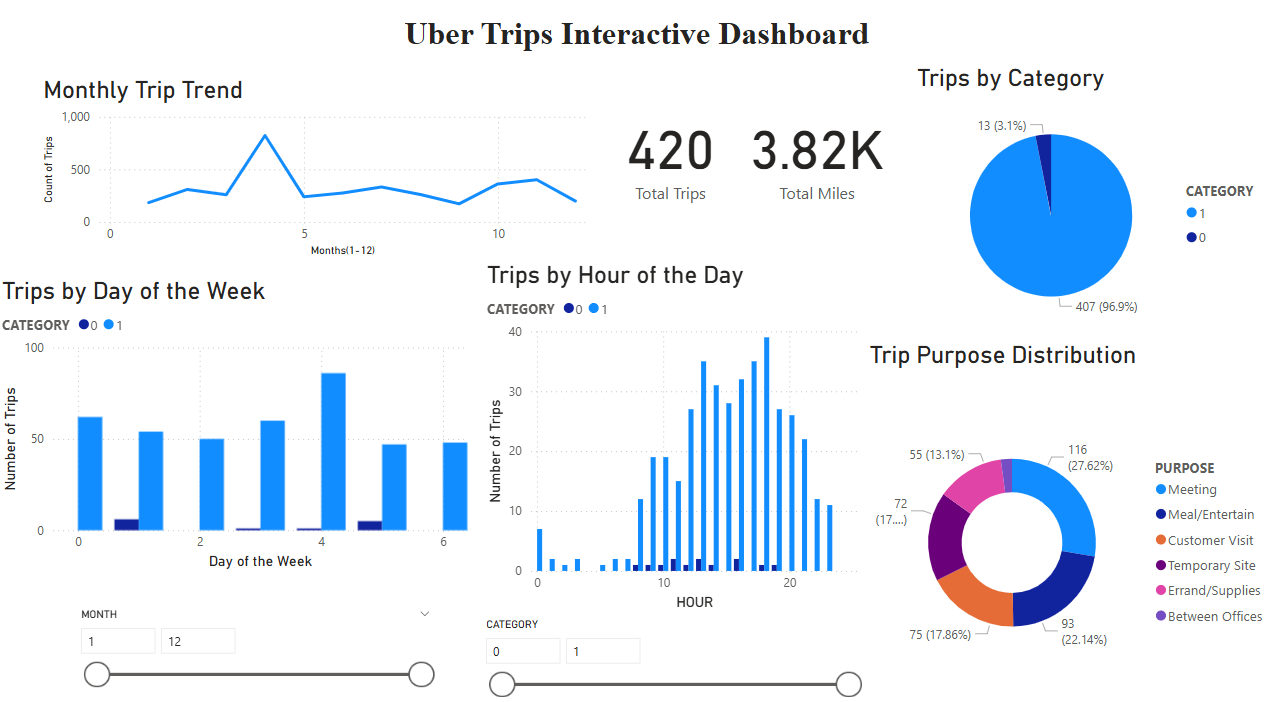

What the dashboard file says about the page in this screenshot:
{"tool":"powerbi","page":{"name":"Page 1","canvas":[1280,720],"ordinal":0},"visuals":[{"type":"textbox","box":[10,0,280,280],"z":0},{"type":"textbox","box":[42,12.6,1194.8,53.2],"z":1000},{"type":"textbox","box":[10,456.5,436,150],"z":2000},{"type":"pieChart","title":"Trips by Category","fields":{"Category":["uber_cleaned_for_powerbi.CATEGORY"],"Y":["CountNonNull(uber_cleaned_for_powerbi.MILES)"]},"box":[914.7,66,365.6,277.6],"z":3000},{"type":"card","fields":{"Values":["Sum(uber_cleaned_for_powerbi.MILES)"]},"box":[738.6,78.5,163.1,157],"z":4000},{"type":"lineChart","title":"Monthly Trip Trend","fields":{"Category":["uber_cleaned_for_powerbi.START_MONTH"],"Y":["Sum(uber_cleaned_for_powerbi.MILES)"]},"box":[41.5,78.5,552.4,186.2],"z":5000},{"type":"donutChart","title":"Trip Purpose Distribution","fields":{"Category":["uber_cleaned_for_powerbi.PURPOSE"],"Y":["CountNonNull(uber_cleaned_for_powerbi.CATEGORY)"]},"box":[867.9,343.2,412.4,377],"z":6000},{"type":"card","fields":{"Values":["CountNonNull(uber_cleaned_for_powerbi.CATEGORY)"]},"box":[594,78.5,160,157],"z":7000},{"type":"slicer","fields":{"Values":["uber_cleaned_for_powerbi.CATEGORY"]},"box":[475.7,616.3,396.2,84.4],"z":8000},{"type":"slicer","fields":{"Values":["uber_cleaned_for_powerbi.MONTH"]},"box":[70.8,606.3,373.9,95.4],"z":9000},{"type":"clusteredColumnChart","title":"Trips by Hour of the Day","fields":{"Category":["uber_cleaned_for_powerbi.HOUR"],"Y":["CountNonNull(uber_cleaned_for_powerbi.CATEGORY)"],"Series":["uber_cleaned_for_powerbi.CATEGORY"]},"box":[484.7,263.1,383.2,353.9],"z":10000},{"type":"clusteredColumnChart","title":"Trips by Day of the Week","fields":{"Y":["CountNonNull(uber_cleaned_for_powerbi.CATEGORY)"],"Category":["uber_cleaned_for_powerbi.START_WEEKDAY"],"Series":["uber_cleaned_for_powerbi.CATEGORY"]},"box":[0,280.1,475.5,297],"z":11000}]}

Visuals, with their boxes in screenshot pixels (x1, y1, x2, y2), scaled from the page's 1280x720 canvas onto the 1271x702 screenshot:
textbox: left=10, top=0, right=288, bottom=273
textbox: left=42, top=12, right=1228, bottom=64
textbox: left=10, top=445, right=443, bottom=591
"Trips by Category" pieChart: left=908, top=64, right=1270, bottom=335
card - Sum(uber_cleaned_for_powerbi.MILES): left=733, top=77, right=895, bottom=230
"Monthly Trip Trend" lineChart: left=41, top=77, right=590, bottom=258
"Trip Purpose Distribution" donutChart: left=862, top=335, right=1270, bottom=701
card - CountNonNull(uber_cleaned_for_powerbi.CATEGORY): left=590, top=77, right=749, bottom=230
slicer - uber_cleaned_for_powerbi.CATEGORY: left=472, top=601, right=866, bottom=683
slicer - uber_cleaned_for_powerbi.MONTH: left=70, top=591, right=442, bottom=684
"Trips by Hour of the Day" clusteredColumnChart: left=481, top=257, right=862, bottom=602
"Trips by Day of the Week" clusteredColumnChart: left=0, top=273, right=472, bottom=563
